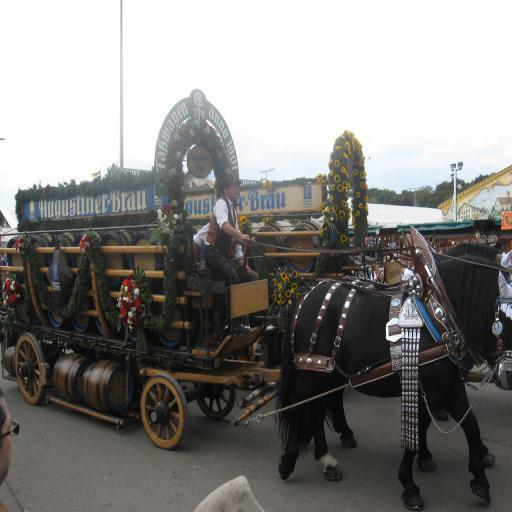horse: (272, 254, 512, 512), (324, 240, 512, 474)
